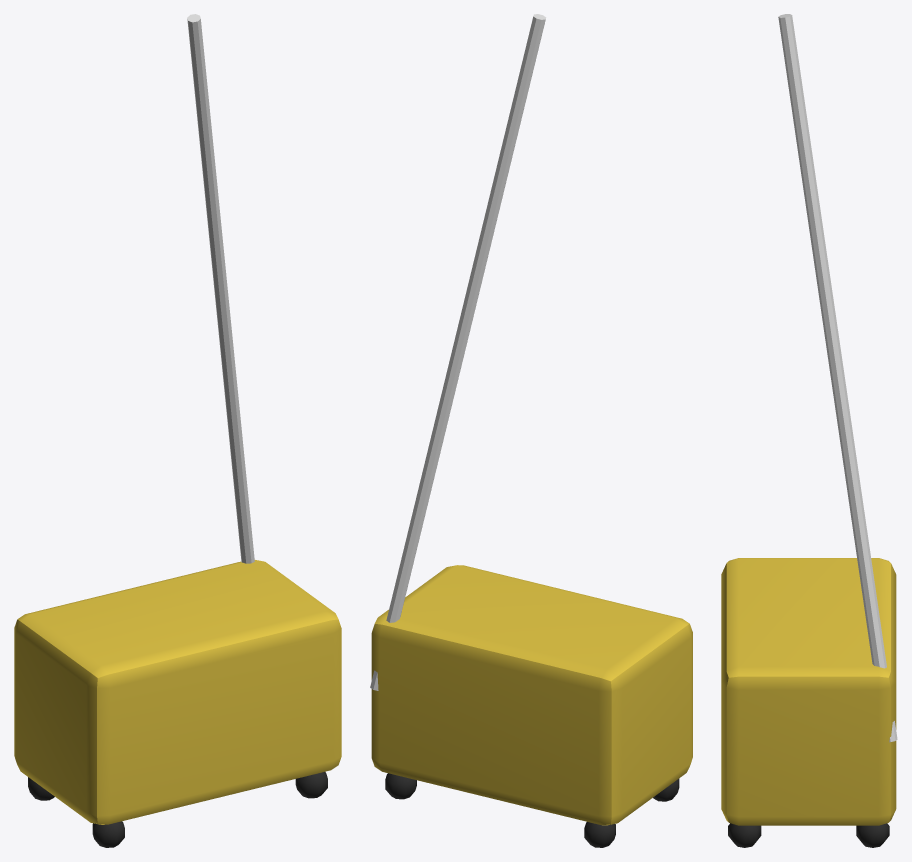
The model's file is SM_MopBucket.fbx.
3 views of the same model, side by side, from view 1: azimuth 30°, elevation 25°; view 2: azimuth 150°, elevation 25°; view 3: azimuth 270°, elevation 25° (orthographic).
Parts seen in each view (by area): view 1: SM_MopBucket_1; view 2: SM_MopBucket_1; view 3: SM_MopBucket_1.
Part boxes in pixels (x1,y1,x2,y2): SM_MopBucket_1: [14, 14, 341, 847]; SM_MopBucket_1: [370, 14, 692, 847]; SM_MopBucket_1: [721, 14, 897, 847].
Bounding box in the file's own units: 50 × 149 × 30.23.
